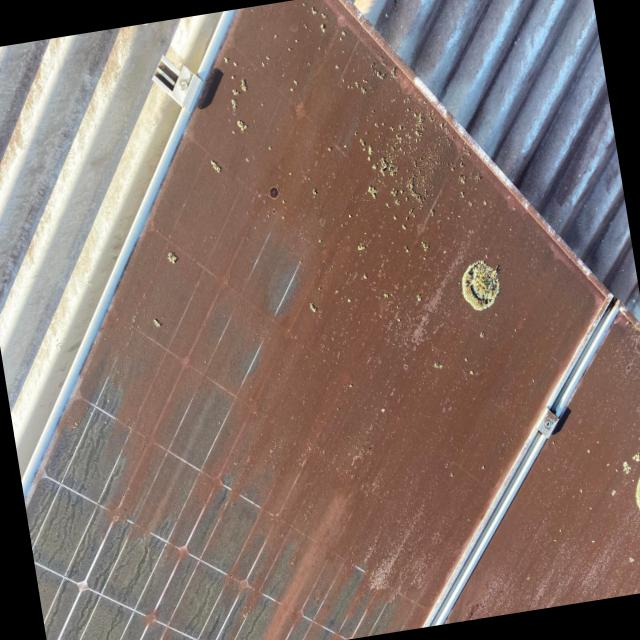faulty: (25, 1, 599, 640), (441, 325, 640, 625)
